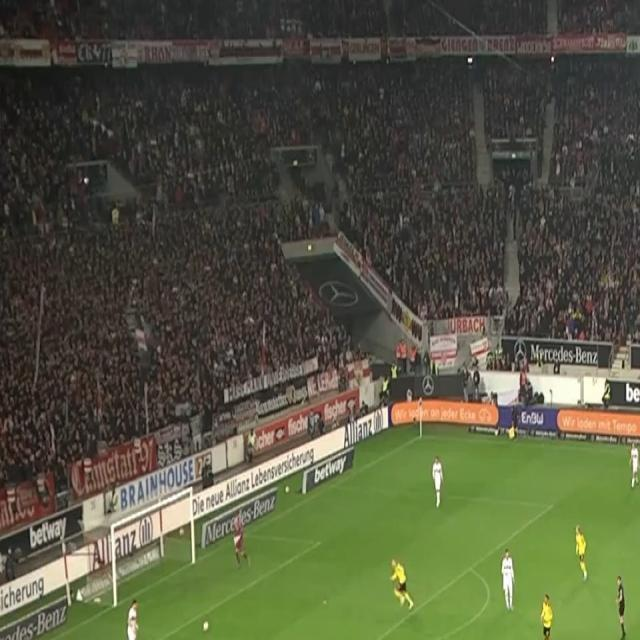ball: (202, 620, 210, 633)
